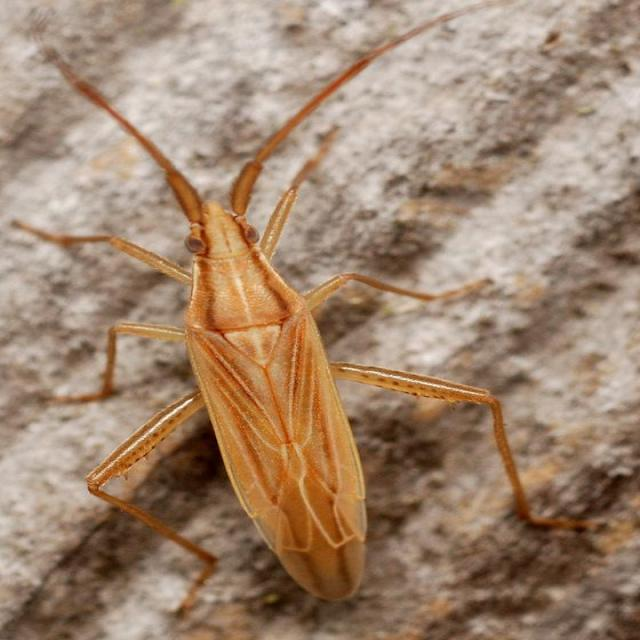Miridae-Adult-: (14, 29, 548, 594)
